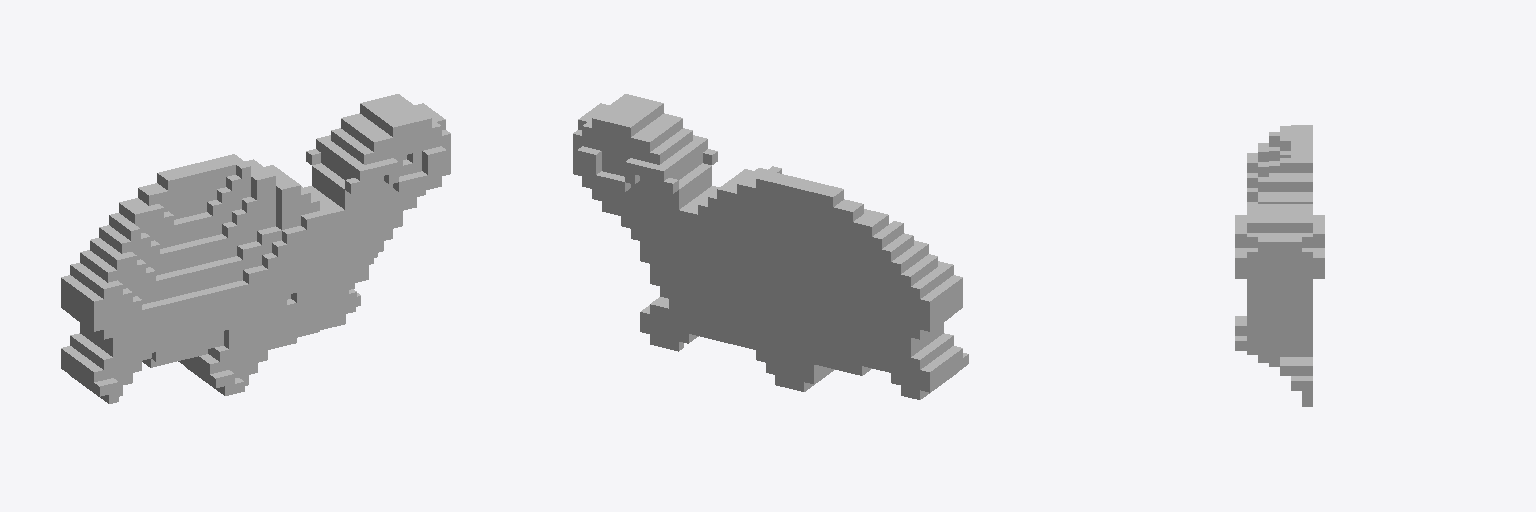
File: Turtle with Glasses.obj
The picture shows the model from 3 angles: view 1: azimuth 30°, elevation 25°; view 2: azimuth 150°, elevation 25°; view 3: azimuth 270°, elevation 25°; orthographic projection.
Parts seen in each view (by area): view 1: object 1; view 2: object 1; view 3: object 1.
Part boxes in pixels (x1,y1,x2,y2): object 1: (61, 94, 450, 403); object 1: (573, 94, 968, 399); object 1: (1235, 125, 1324, 406).
Size of the model in its own units: 3.7 by 2.2 by 0.8.